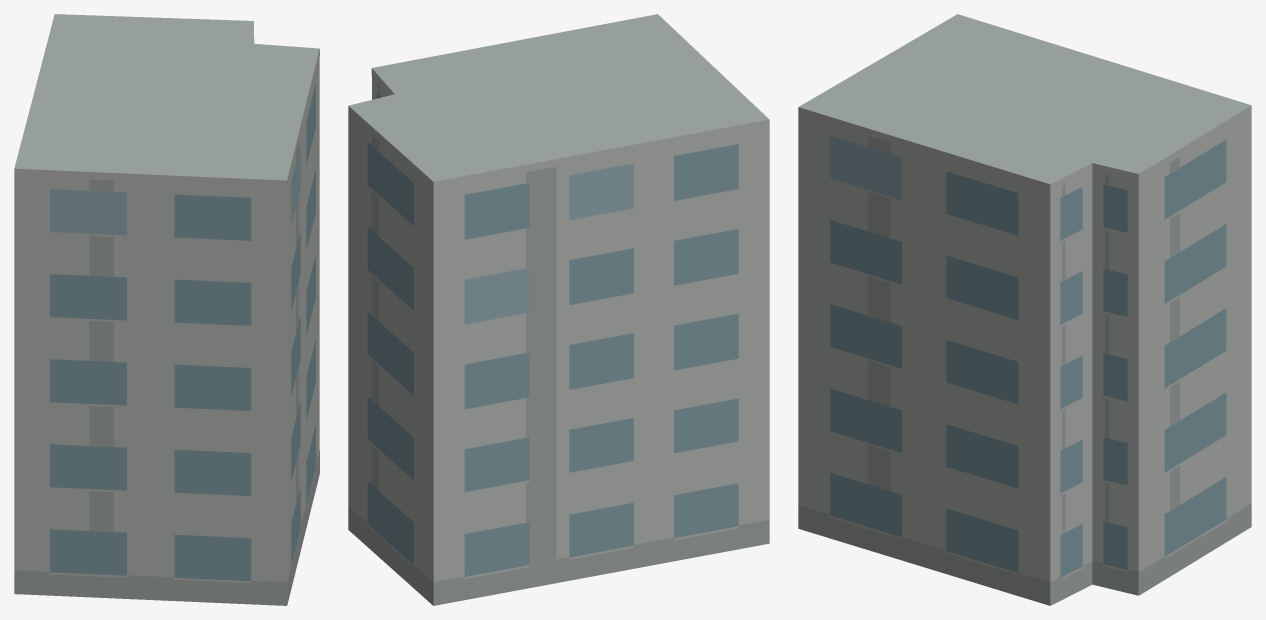
Rendered from survey-upis-32866863.glb.
3 views of the same model, side by side, from view 1: azimuth 30°, elevation 25°; view 2: azimuth 150°, elevation 25°; view 3: azimuth 270°, elevation 25° (orthographic).
Parts seen in each view (by area): view 1: survey-upis-32866863.tmp; view 2: survey-upis-32866863.tmp; view 3: survey-upis-32866863.tmp.
Boxes of the visible parts, box(x1,y1,x2,y2) form: survey-upis-32866863.tmp: box(14, 14, 319, 605); survey-upis-32866863.tmp: box(348, 14, 769, 605); survey-upis-32866863.tmp: box(798, 14, 1251, 605).
Bounding box in the file's own units: 11.71 × 13.5 × 13.17.
